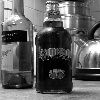beer: (36, 1, 74, 95)
